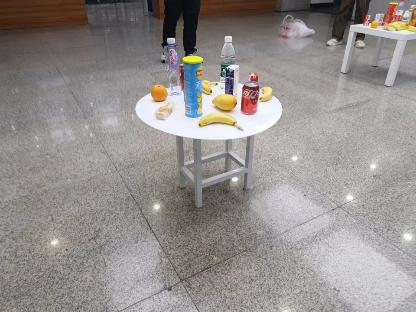Others: (183, 56, 205, 118), (224, 64, 240, 98), (250, 71, 258, 88)
Plastic Bottle: (164, 38, 182, 96), (220, 35, 236, 91)
